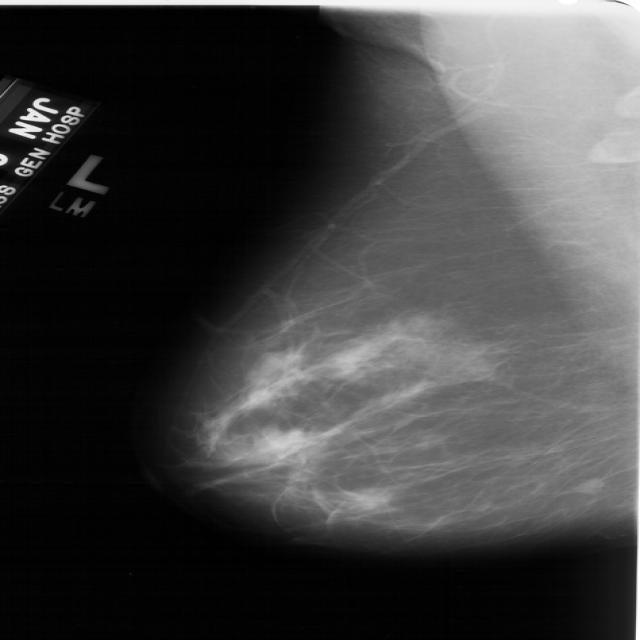tumour: (574, 477, 603, 494)
